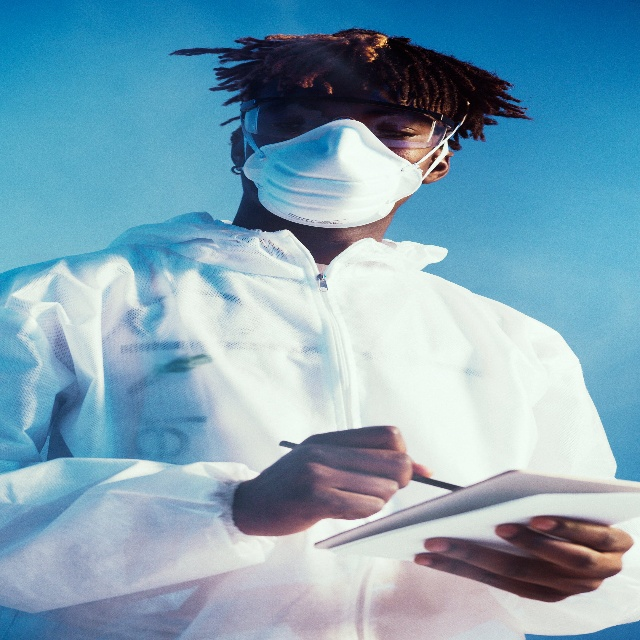Gafas: (236, 96, 454, 160)
Mascara: (240, 117, 424, 229)
Sin_guantes: (248, 421, 432, 544), (412, 518, 633, 600)
